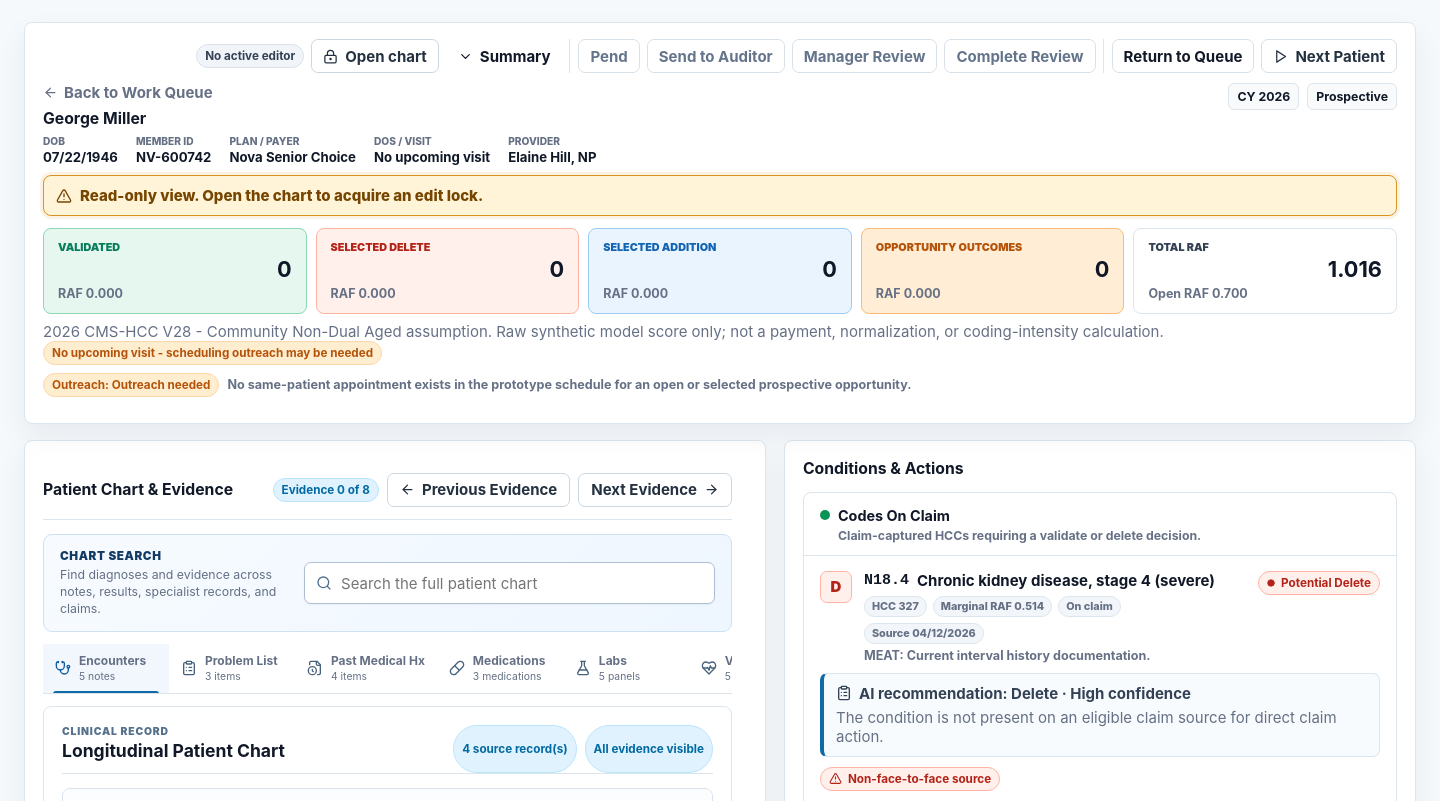
Test: ReviewPage evidence navigation › shows the complete prospective action set without an appointment
Click the button "Open chart" at coordinates (375, 56), box [311,39,439,73]
(page scrolled)
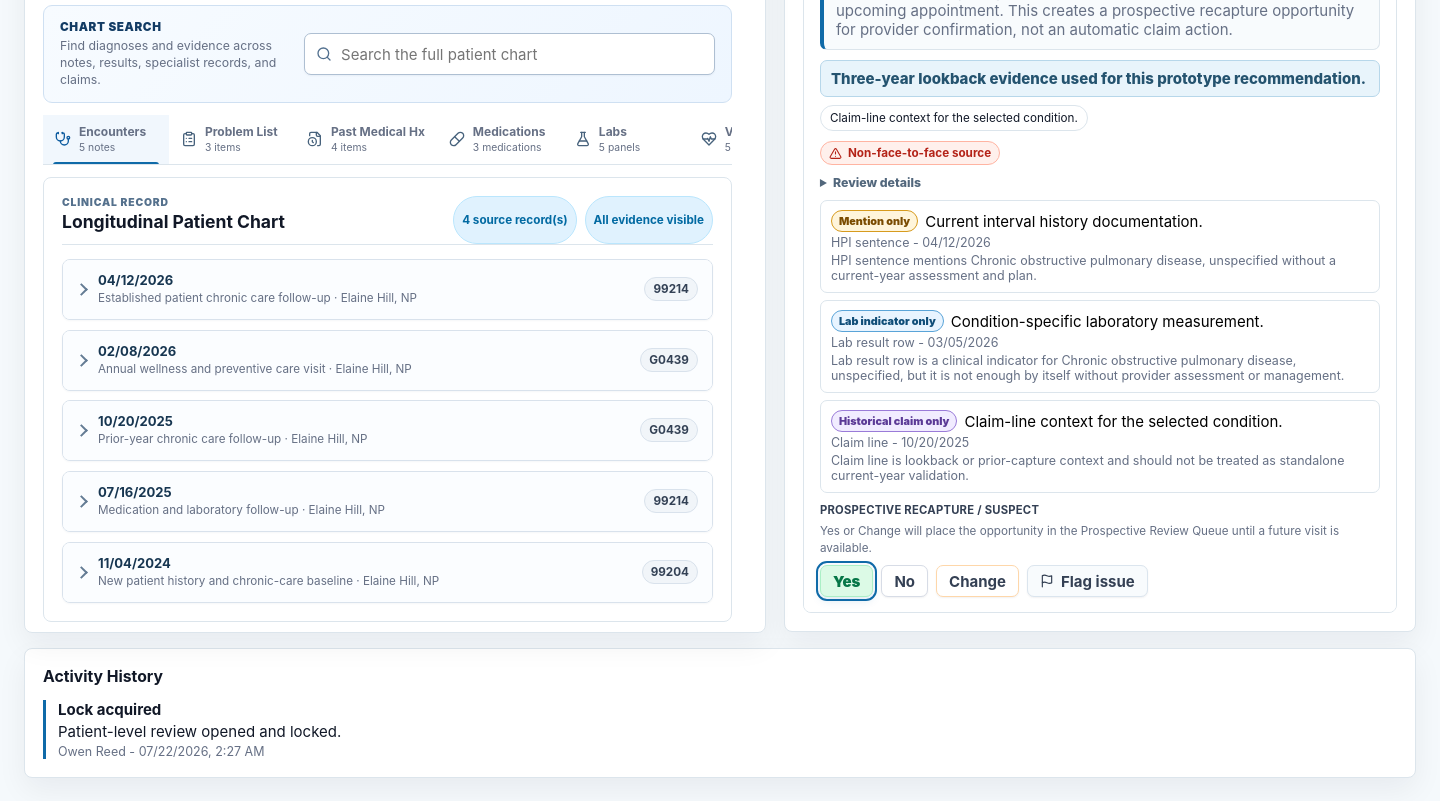
Result: the button "Yes" is enabled at [820,565,874,597]
Result: the button "No" is enabled at [881,565,928,597]
Result: the button "Change" is enabled at [936,565,1019,597]
